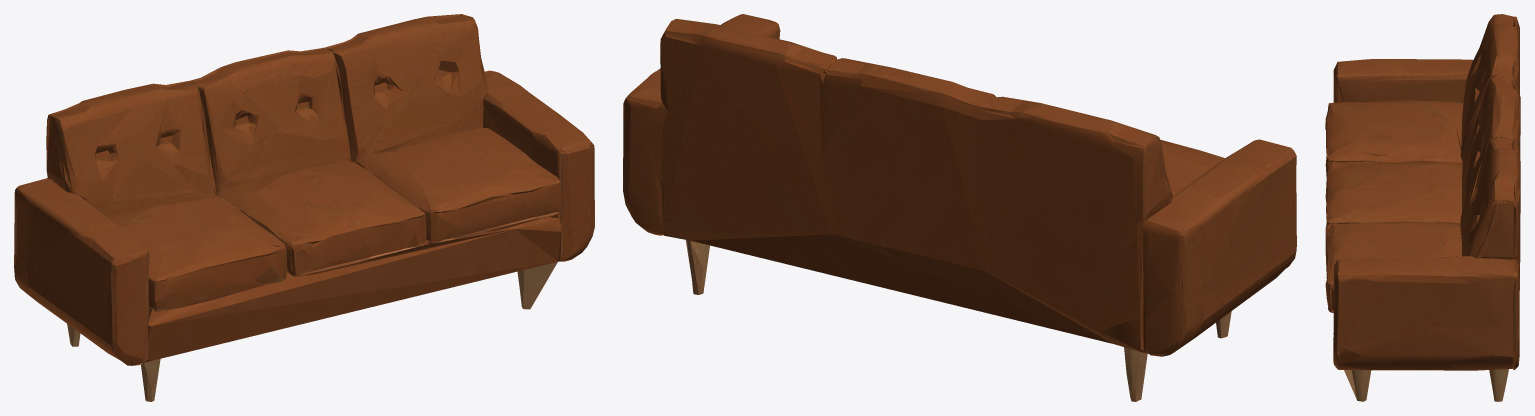
The model's file is sofa.glb.
The picture shows the model from 3 angles, left to right: view 1: azimuth 30°, elevation 25°; view 2: azimuth 150°, elevation 25°; view 3: azimuth 270°, elevation 25°; orthographic projection. The views are drawn at different scales.
Size of the model in its own units: 1.9 by 0.8803 by 0.7217.
Materials: 1 (1 with a texture image).
